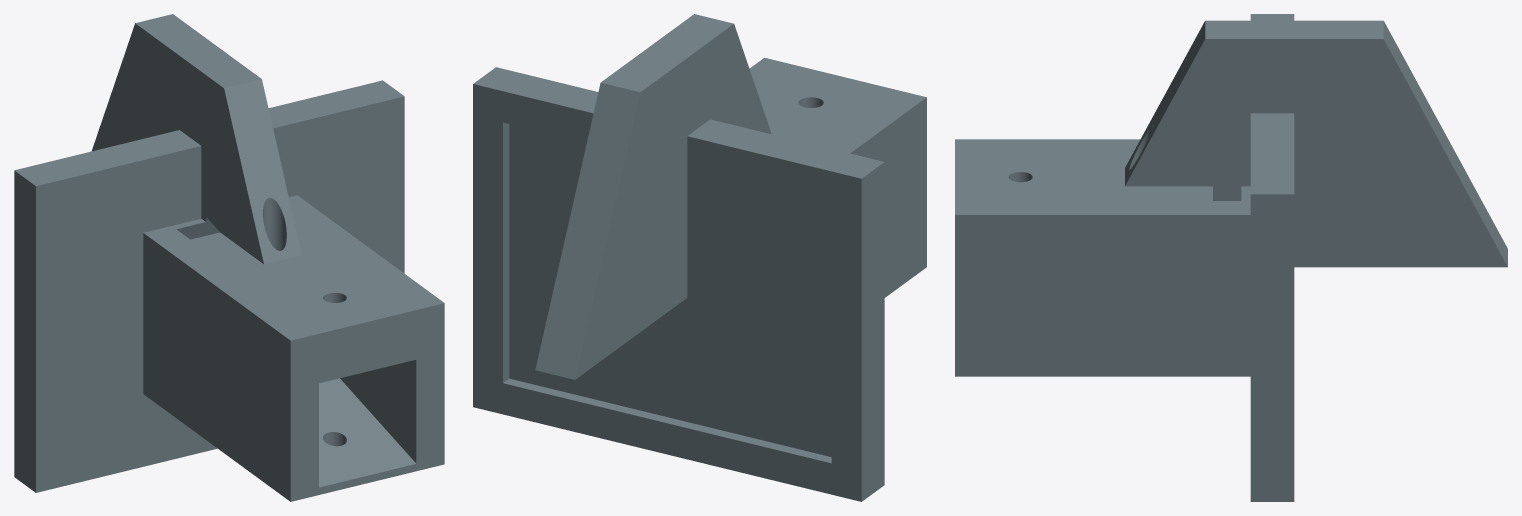
Rendered from est_pie.glb.
The picture shows the model from 3 angles, left to right: view 1: azimuth 30°, elevation 25°; view 2: azimuth 150°, elevation 25°; view 3: azimuth 270°, elevation 25°; orthographic projection. The views are drawn at different scales.
Parts seen in each view (by area): view 1: world; view 2: world; view 3: world.
Part boxes in pixels (box(x1,y1,x2,y2)): world: box(14, 14, 444, 501); world: box(473, 14, 926, 501); world: box(955, 14, 1507, 501).
Size of the model in its own units: 78 by 77 by 101.
